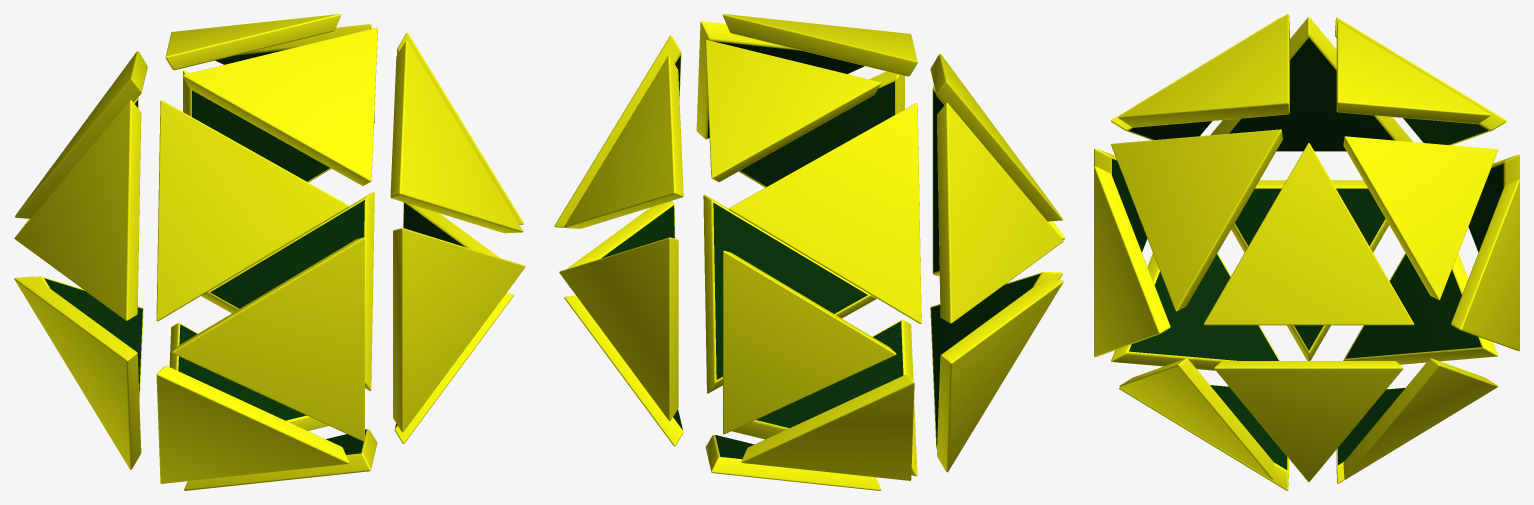
The model's file is SystemModel.dae.
3 renders of one model, left to right at view 1: azimuth 30°, elevation 25°; view 2: azimuth 150°, elevation 25°; view 3: azimuth 270°, elevation 25°, orthographic. The views are drawn at different scales.
Visible parts, largest first — view 1: faces__2_; view 2: faces__2_; view 3: faces__2_.
Part boxes in pixels (<box>): faces__2_: <box>14,14,525,490</box>; faces__2_: <box>554,14,1065,490</box>; faces__2_: <box>1094,14,1519,490</box>.
Size of the model in its own units: 1.71 by 1.71 by 1.69.
